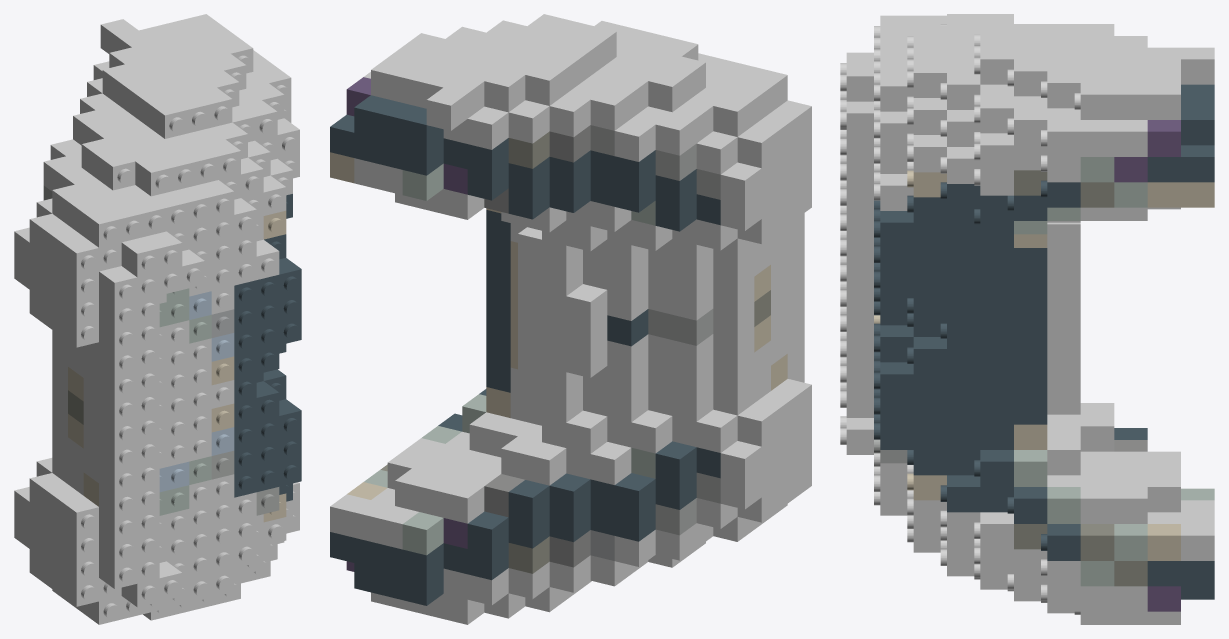
File: full.glb
3 renders of one model, left to right at view 1: azimuth 30°, elevation 25°; view 2: azimuth 150°, elevation 25°; view 3: azimuth 270°, elevation 25°, orthographic. The views are drawn at different scales.
Parts seen in each view (by area): view 1: world; view 2: world; view 3: world.
Part boxes in pixels (bbox=[...]): world: bbox=[14, 14, 301, 624]; world: bbox=[330, 14, 811, 624]; world: bbox=[840, 14, 1214, 624].
Bounding box in the file's own units: 104 × 168 × 107.
